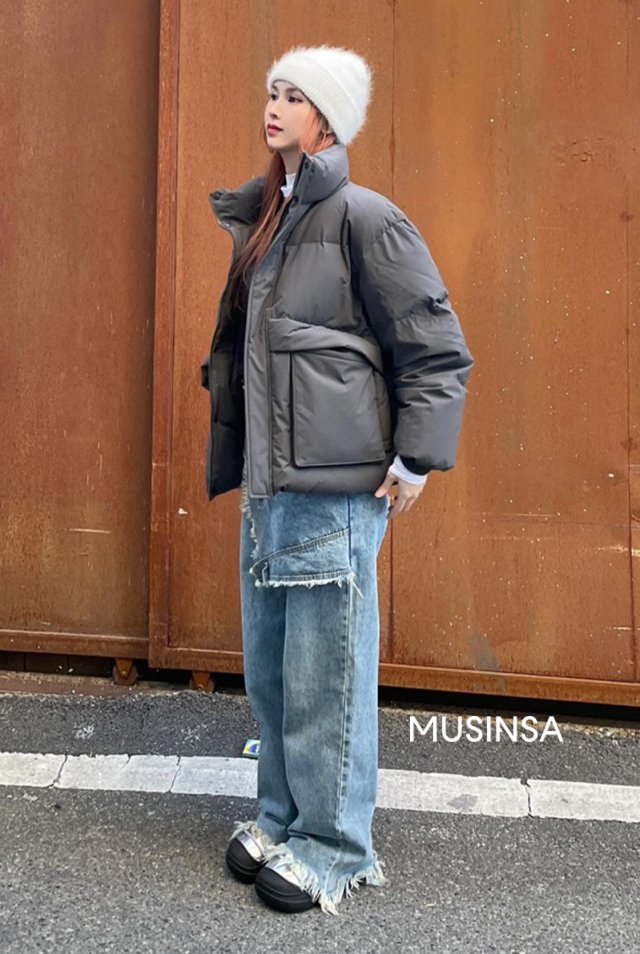Beanie: (259, 38, 370, 144)
Bubble jacket: (186, 143, 475, 495)
Jeans: (238, 476, 386, 905)
Shoes: (220, 816, 391, 916)
